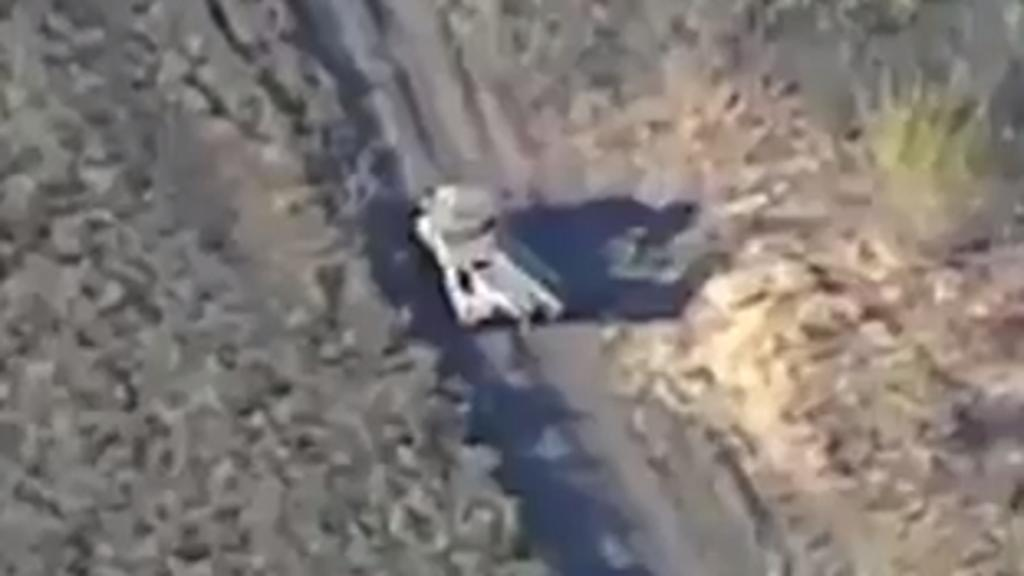MLRS: (404, 174, 562, 328)
